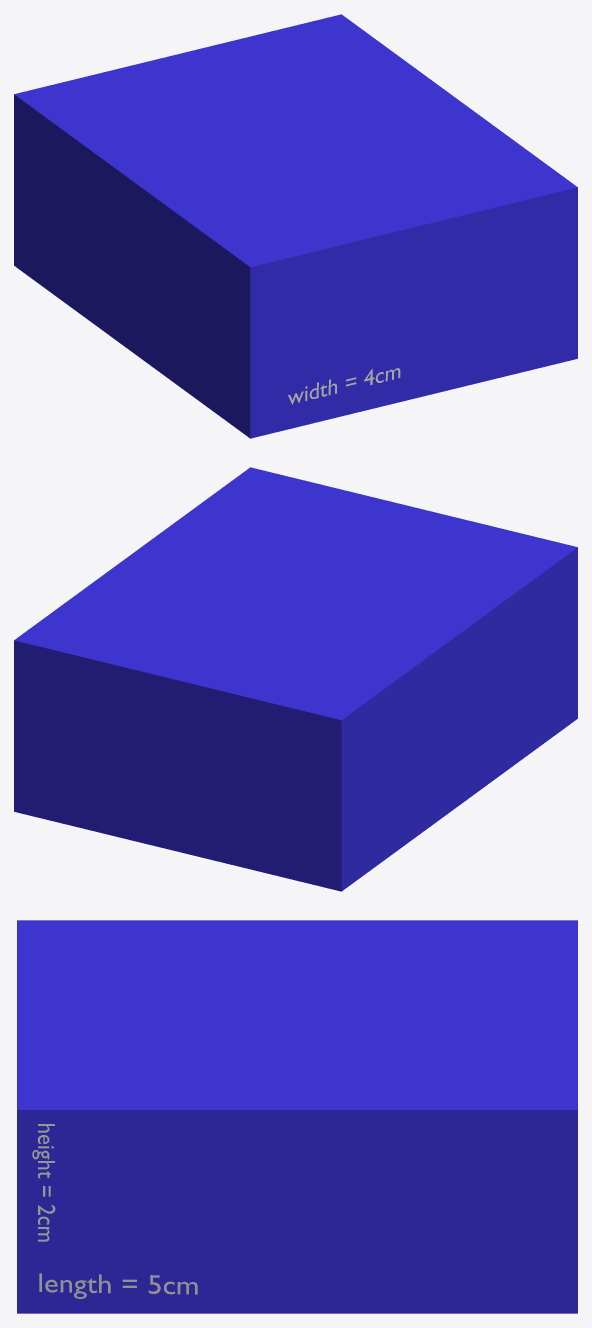
The model's file is rectang5x4x2.glb.
3 views of the same model, one above another, from view 1: azimuth 30°, elevation 25°; view 2: azimuth 150°, elevation 25°; view 3: azimuth 270°, elevation 25° (orthographic). The views are drawn at different scales.
Parts seen in each view (by area): view 1: Cube, length.001; view 2: Cube; view 3: Cube, length, height.
Part boxes in pixels (box(x1,y1,x2,y2)): Cube: box(14, 14, 577, 438); length.001: box(288, 368, 400, 404); Cube: box(14, 467, 577, 891); Cube: box(17, 920, 577, 1313); length: box(39, 1273, 197, 1298); height: box(32, 1124, 55, 1241).
Bounding box in the file's own units: 0.4069 × 0.2 × 0.5025.
